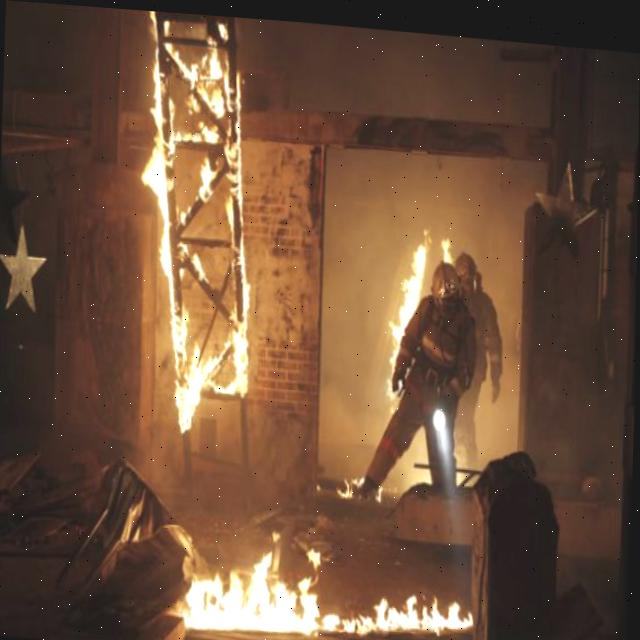fire: (143, 10, 249, 497), (137, 504, 473, 632), (340, 234, 476, 505)
smoke: (242, 104, 559, 500), (47, 6, 184, 484), (519, 150, 634, 547)
